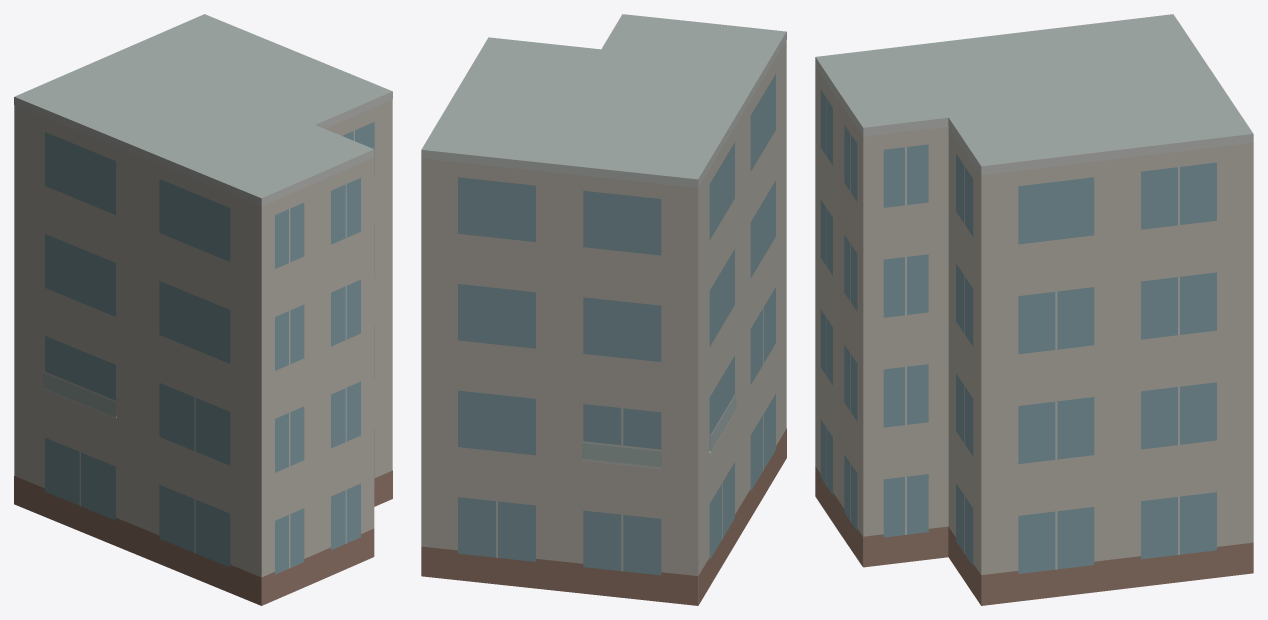
Rendered from residential-824086f0-c844-4471-9c46-1b60f1506b2c.glb.
The picture shows the model from 3 angles, left to right: view 1: azimuth 30°, elevation 25°; view 2: azimuth 150°, elevation 25°; view 3: azimuth 270°, elevation 25°; orthographic projection. The views are drawn at different scales.
Parts seen in each view (by area): view 1: residential-824086f0-c844-4471-9c46-1b60f1506b2c.tmp; view 2: residential-824086f0-c844-4471-9c46-1b60f1506b2c.tmp; view 3: residential-824086f0-c844-4471-9c46-1b60f1506b2c.tmp.
Boxes of the visible parts, x1,y1,x2,y2 form: residential-824086f0-c844-4471-9c46-1b60f1506b2c.tmp: (14, 14, 392, 605); residential-824086f0-c844-4471-9c46-1b60f1506b2c.tmp: (421, 14, 786, 605); residential-824086f0-c844-4471-9c46-1b60f1506b2c.tmp: (815, 14, 1253, 605).
Bounding box in the file's own units: 9.08 × 12.2 × 11.03.
